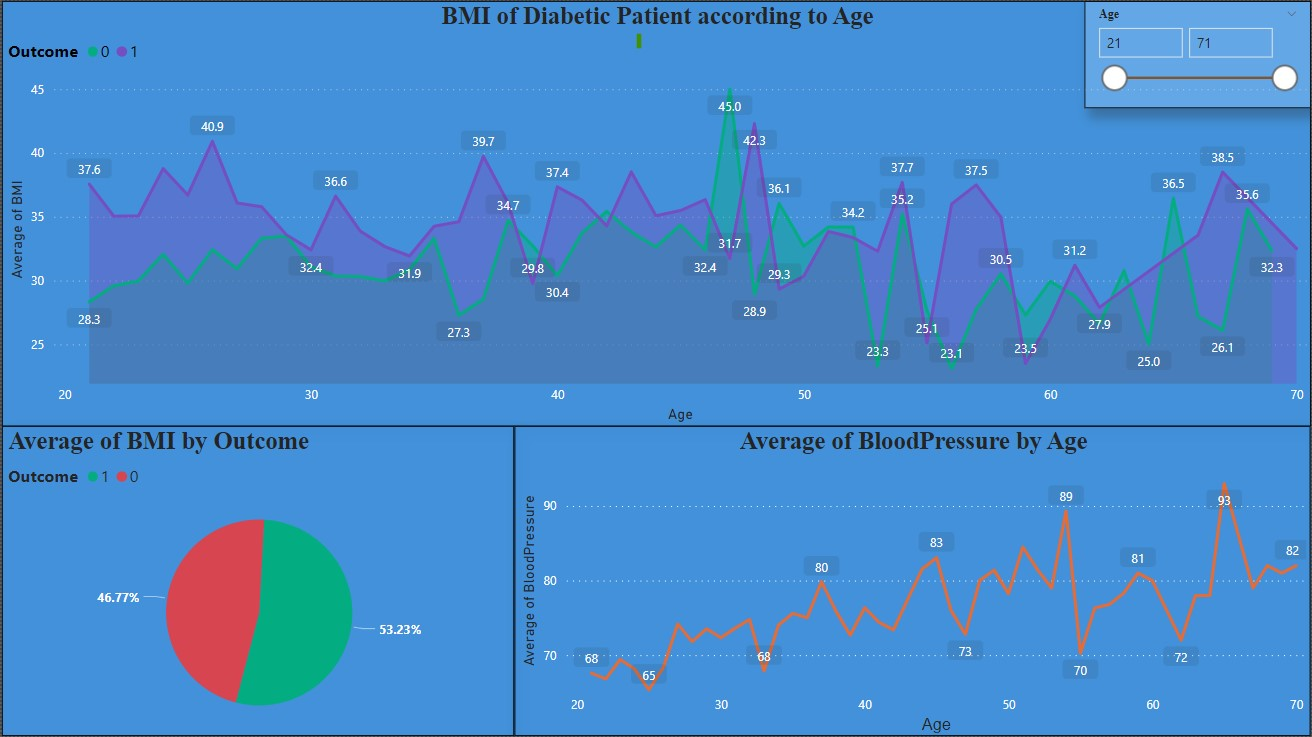

The page's visual inventory and layout, read from the dashboard file:
{"tool":"powerbi","page":{"name":"Page 2","canvas":[1280,720],"ordinal":1},"visuals":[{"type":"areaChart","title":"BMI of Diabetic Patient according to Age","fields":{"Y":["Avg(df_pima.BMI)"],"Series":["df_pima.Outcome"],"Category":["df_pima.Age"]},"box":[0,0,1279.9,415.6],"z":0},{"type":"donutChart","fields":{"Category":["df_pima.Outcome"],"Y":["Avg(df_pima.BMI)"]},"box":[0,415.6,501.2,304.4],"z":5000},{"type":"lineChart","fields":{"Category":["df_pima.Age"],"Y":["Avg(df_pima.BloodPressure)"]},"box":[501.2,415.6,778.7,304.4],"z":6000},{"type":"slicer","fields":{"Values":["df_pima.Age"]},"box":[1058.6,0,221.3,105.1],"z":7000}]}

Visuals, with their boxes in screenshot pixels (x1, y1, x2, y2), scaled from the page's 1280x720 canvas onto the 1312x737 screenshot:
"BMI of Diabetic Patient according to Age" areaChart: (0, 0, 1311, 425)
donutChart - df_pima.Outcome x Avg(df_pima.BMI): (0, 425, 514, 736)
lineChart - df_pima.Age x Avg(df_pima.BloodPressure): (514, 425, 1311, 736)
slicer - df_pima.Age: (1085, 0, 1311, 108)
